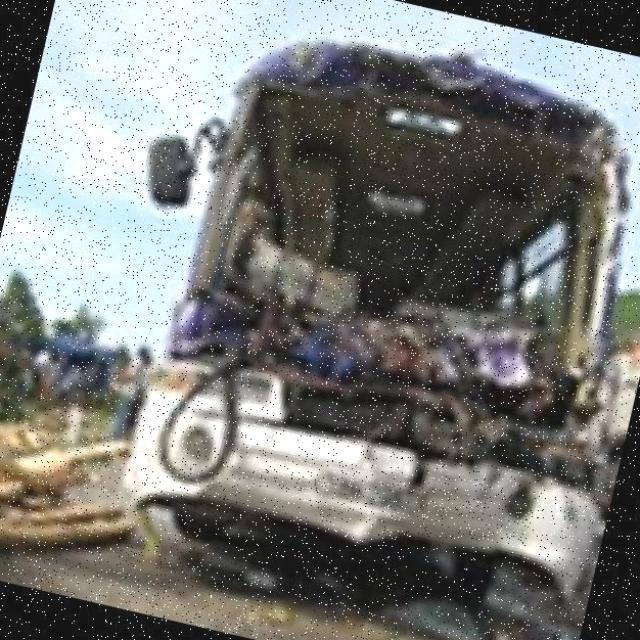accident: (90, 4, 640, 628)
